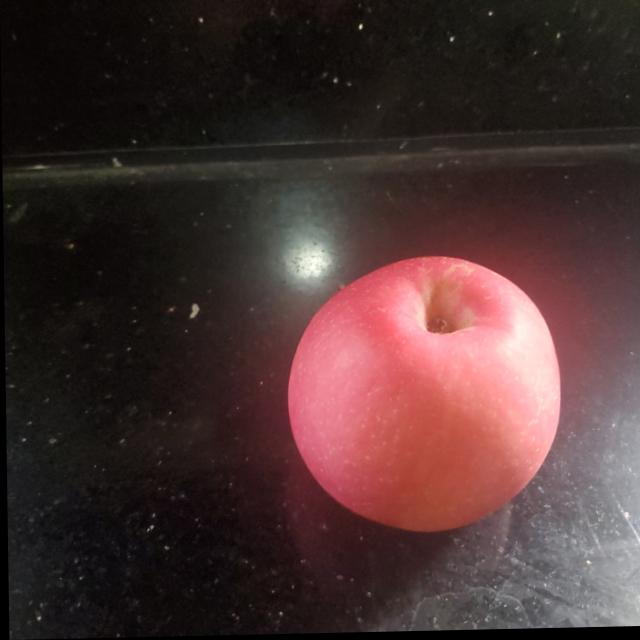apple: (286, 259, 561, 540)
